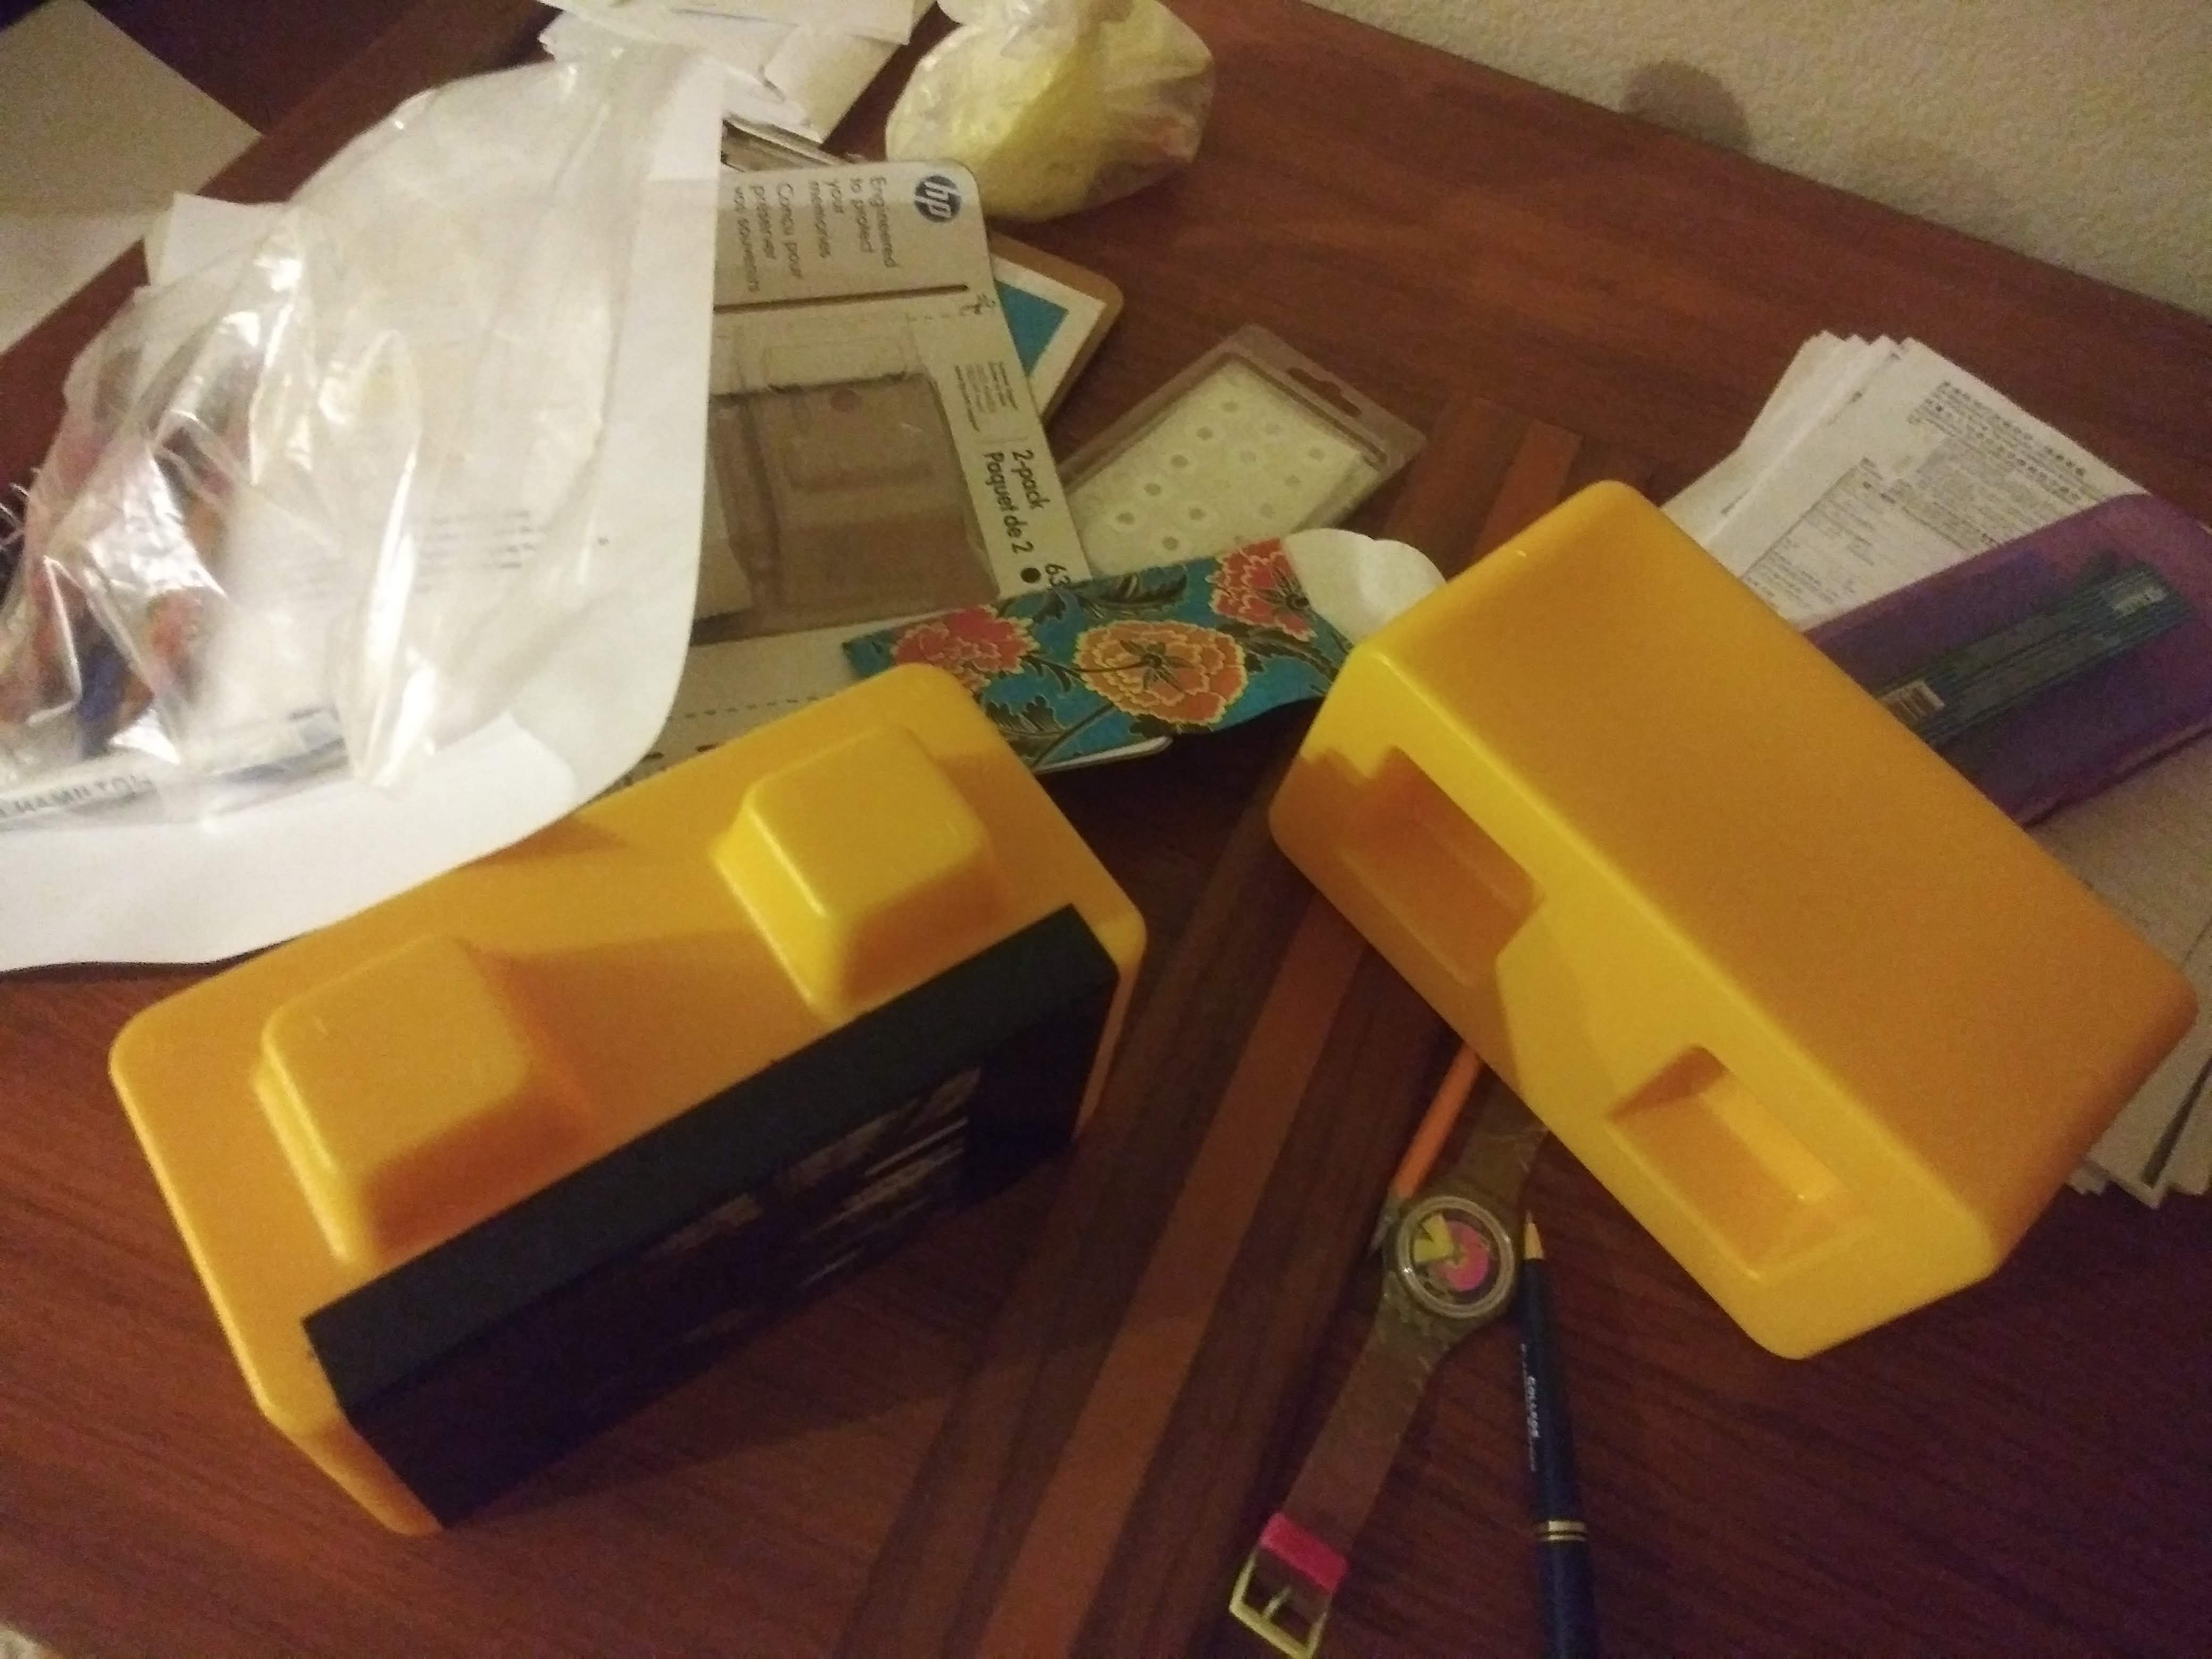skystone: (160, 796, 1055, 1378)
stone: (1372, 521, 2106, 1260)
